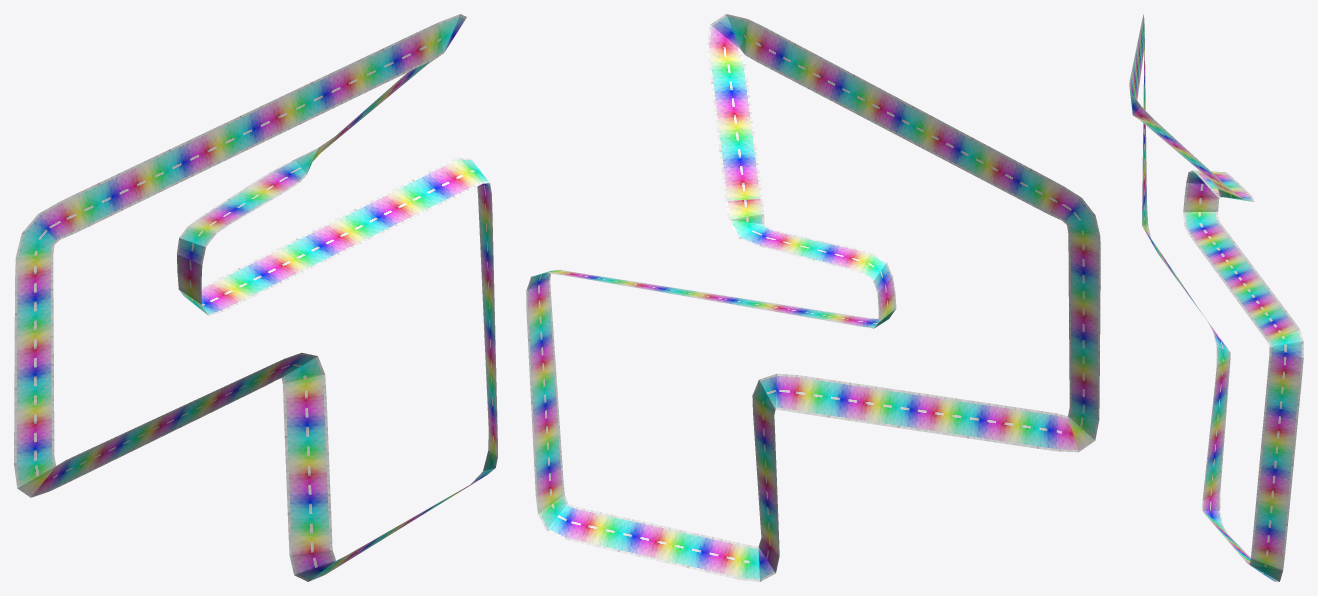
Rendered from Route06.obj.
The picture shows the model from 3 angles, left to right: view 1: azimuth 30°, elevation 25°; view 2: azimuth 150°, elevation 25°; view 3: azimuth 270°, elevation 25°; orthographic projection. The views are drawn at different scales.
Visible parts, largest first — view 1: Track2; view 2: Track2; view 3: Track2.
Boxes of the visible parts, left/top/right/bottom form: Track2: left=14, top=14, right=497, bottom=581; Track2: left=526, top=14, right=1100, bottom=581; Track2: left=1129, top=14, right=1303, bottom=581.
Size of the model in its own units: 119 by 119 by 39.94.
Materials: 1 (1 with a texture image).
